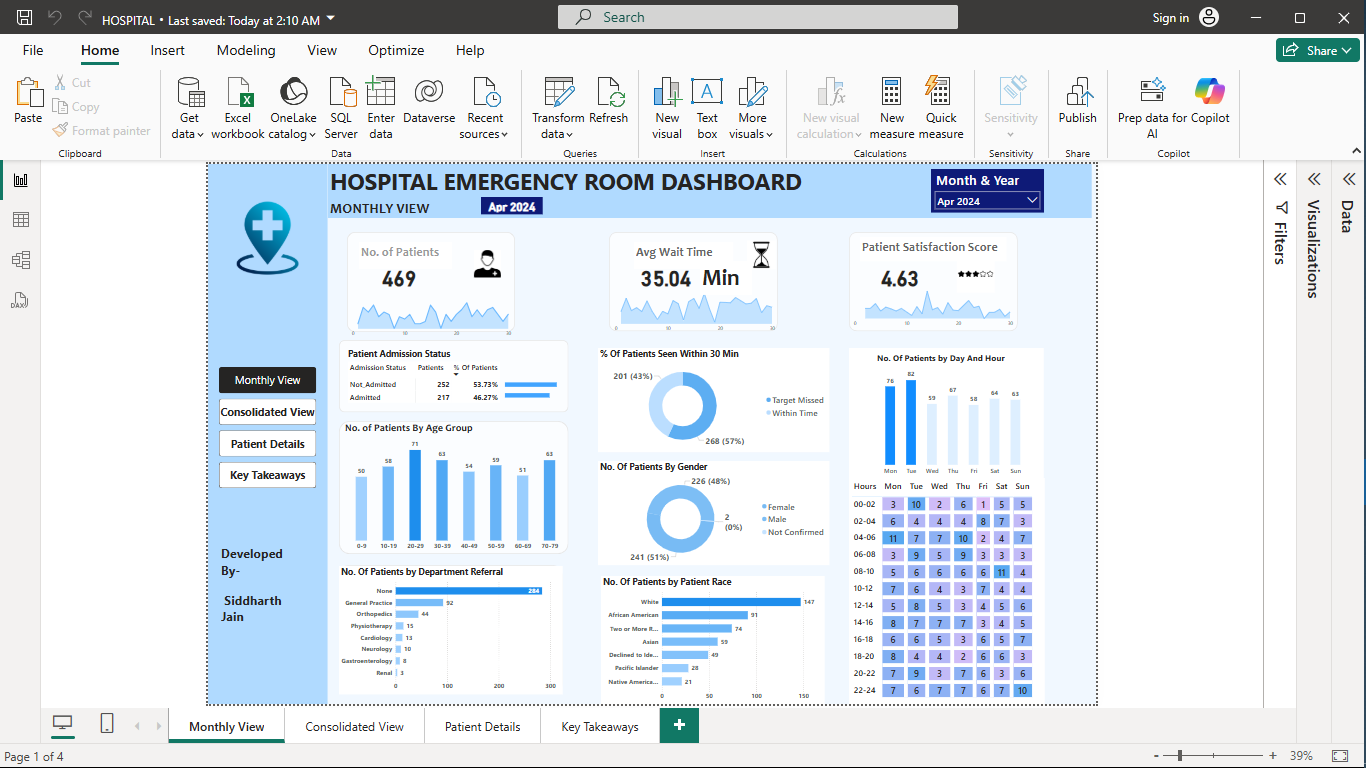

What the dashboard file says about the page in this screenshot:
{"tool":"powerbi","page":{"name":"Monthly View","canvas":[2300,1400],"ordinal":0},"visuals":[{"type":"shape","box":[0,0,310,1400],"z":0},{"type":"shape","box":[310,0,1980,140],"z":1000},{"type":"textbox","box":[310,0,1247.5,100],"z":2000},{"type":"textbox","box":[311.1,85.6,287.8,90.7],"z":3000},{"type":"shape","box":[360.4,176.3,435.6,259.3],"z":4000},{"type":"card","fields":{"Values":["Date Table.No. Of Patients"]},"box":[412.2,238.5,165.9,101.1],"z":5000},{"type":"slicer","fields":{"Values":["Date Table.Month & Year"]},"box":[1875,12.5,292.5,112.5],"z":6000},{"type":"textbox","box":[391.5,202.2,241.1,70],"z":7000},{"type":"areaChart","fields":{"Category":["Date Table.Date.Variation.Date Hierarchy.Day"],"Y":["Date Table.No. Of Patients"]},"box":[360.4,321.5,433,134.8],"z":8000},{"type":"shape","box":[1040,175,437.5,257.5],"z":9000},{"type":"shape","box":[1662.5,177.5,437.5,257.5],"z":10000},{"type":"textbox","box":[1104.4,202.2,256.7,70],"z":11000},{"type":"card","fields":{"Values":["Avg(Hospital ER_Data.Patient Waittime)"]},"box":[1104.4,238.5,165.9,101.1],"z":12000},{"type":"areaChart","fields":{"Category":["Date Table.Date.Variation.Date Hierarchy.Day"],"Y":["Avg(Hospital ER_Data.Patient Waittime)"]},"box":[1042.5,307.5,435,135],"z":13000},{"type":"textbox","box":[1275.6,251.5,134.8,88.1],"z":14000},{"type":"card","fields":{"Values":["Min(Date Table.Month & Year)"]},"box":[707.5,85,160,45],"z":15000},{"type":"textbox","box":[1690,190,380,62.5],"z":16000},{"type":"card","fields":{"Values":["Avg(Hospital ER_Data.Patient Satisfaction Score)"]},"box":[1710,237.5,165,102.5],"z":17000},{"type":"areaChart","fields":{"Category":["Date Table.Date.Variation.Date Hierarchy.Day"],"Y":["Sum(Hospital ER_Data.Patient Satisfaction Score)"]},"box":[1662.5,295,432.5,135],"z":18000},{"type":"shape","box":[340,457.5,595,187.5],"z":19000},{"type":"pivotTable","title":"Patient Admission Status","fields":{"Rows":["Hospital ER_Data.Admission Status"],"Values":["Date Table.No. Of Patients1","Date Table.No. Of Patients"]},"box":[357.5,477.5,407.5,150],"z":20000},{"type":"barChart","fields":{"Category":["Hospital ER_Data.Admission Status"],"Y":["Date Table.No. Of Patients"]},"box":[765,540,170,87.5],"z":21000},{"type":"shape","box":[340,667.5,595,345],"z":22000},{"type":"clusteredColumnChart","title":"No. of Patients By Age Group","fields":{"Category":["Hospital ER_Data.Age Interval"],"Y":["Date Table.No. Of Patients"]},"box":[350,667.5,585,345],"z":23000},{"type":"shape","box":[340,1040,580,335],"z":24000},{"type":"clusteredBarChart","fields":{"Y":["Date Table.No. Of Patients"],"Category":["Hospital ER_Data.Department Referral"]},"box":[340,1042.5,580,332.5],"z":25000},{"type":"shape","box":[1010,477.5,600,270],"z":26000},{"type":"donutChart","title":"% Of Patients Seen Within 30 Min","fields":{"Category":["Hospital ER_Data.Wait Time status"],"Y":["Date Table.No. Of Patients"]},"box":[1010,477.5,600,270],"z":27000},{"type":"donutChart","title":"No. Of Patients By Gender","fields":{"Y":["Date Table.No. Of Patients"],"Category":["Hospital ER_Data.Patient Gender"]},"box":[1010,770,600,270],"z":28000},{"type":"clusteredBarChart","fields":{"Y":["Date Table.No. Of Patients"],"Category":["Hospital ER_Data.Patient Race"]},"box":[1020,1067.5,580,332.5],"z":29000},{"type":"textbox","box":[1662.5,477.5,505,922.5],"z":30000},{"type":"pivotTable","fields":{"Rows":["Hospital ER_Data.HourInterval"],"Columns":["Date Table.Day Name"],"Values":["Date Table.No. Of Patients"]},"box":[1665,815,505,585],"z":31000},{"type":"columnChart","title":"No. Of Patients by Day And Hour","fields":{"Category":["Date Table.Day Name"],"Y":["Date Table.No. Of Patients"]},"box":[1730,487.5,405,327.5],"z":32000},{"type":"image","box":[1392.5,185,85,102.5],"z":33000},{"type":"image","box":[685,202.5,80,112.5],"z":34000},{"type":"image","box":[55,62.5,200,260],"z":35000},{"type":"image","box":[1932.5,230,117.5,107.5],"z":36000},{"type":"pageNavigator","box":[27.5,525,252.5,315],"z":37000},{"type":"textbox","box":[27.5,982.5,227.5,250],"z":38000}]}

Visuals, with their boxes on the page's 2300x1400 design canvas (x1, y1, x2, y2). These are canvas units, not pixel positions in the 1366x768 screenshot, which may show the page scaled, cropped or inside an application window:
shape: 0 0 310 1400
shape: 310 0 2290 140
textbox: 310 0 1558 100
textbox: 311 86 599 176
shape: 360 176 796 436
card - Date Table.No. Of Patients: 412 238 578 340
slicer - Date Table.Month & Year: 1875 12 2168 125
textbox: 392 202 633 272
areaChart - Date Table.Date.Variation.Date Hierarchy.Day x Date Table.No. Of Patients: 360 322 793 456
shape: 1040 175 1478 432
shape: 1662 178 2100 435
textbox: 1104 202 1361 272
card - Avg(Hospital ER_Data.Patient Waittime): 1104 238 1270 340
areaChart - Date Table.Date.Variation.Date Hierarchy.Day x Avg(Hospital ER_Data.Patient Waittime): 1042 308 1478 442
textbox: 1276 252 1410 340
card - Min(Date Table.Month & Year): 708 85 868 130
textbox: 1690 190 2070 252
card - Avg(Hospital ER_Data.Patient Satisfaction Score): 1710 238 1875 340
areaChart - Date Table.Date.Variation.Date Hierarchy.Day x Sum(Hospital ER_Data.Patient Satisfaction Score): 1662 295 2095 430
shape: 340 458 935 645
"Patient Admission Status" pivotTable: 358 478 765 628
barChart - Hospital ER_Data.Admission Status x Date Table.No. Of Patients: 765 540 935 628
shape: 340 668 935 1012
"No. of Patients By Age Group" clusteredColumnChart: 350 668 935 1012
shape: 340 1040 920 1375
clusteredBarChart - Date Table.No. Of Patients x Hospital ER_Data.Department Referral: 340 1042 920 1375
shape: 1010 478 1610 748
"% Of Patients Seen Within 30 Min" donutChart: 1010 478 1610 748
"No. Of Patients By Gender" donutChart: 1010 770 1610 1040
clusteredBarChart - Date Table.No. Of Patients x Hospital ER_Data.Patient Race: 1020 1068 1600 1400
textbox: 1662 478 2168 1400
pivotTable - Hospital ER_Data.HourInterval x Date Table.Day Name: 1665 815 2170 1400
"No. Of Patients by Day And Hour" columnChart: 1730 488 2135 815
image: 1392 185 1478 288
image: 685 202 765 315
image: 55 62 255 322
image: 1932 230 2050 338
pageNavigator: 28 525 280 840
textbox: 28 982 255 1232
